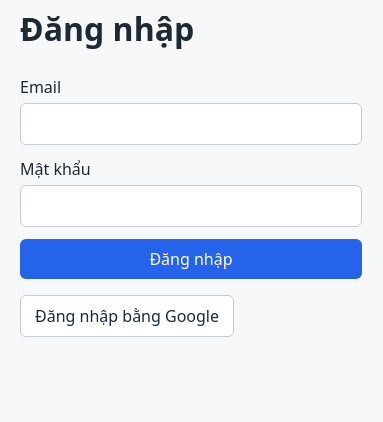
it: LoginPage › AC-AUTH-02 (UI): shows the server message on wrong password
Type "a@b.vn" into the field labelled "Email" at (191, 124), box [20,103,362,145]
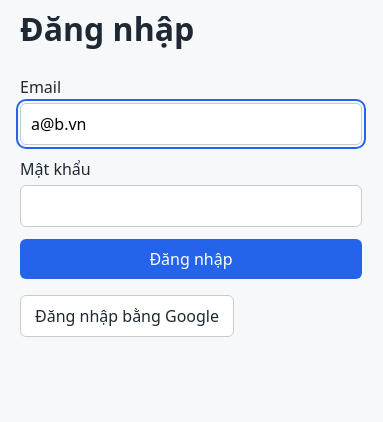
Type "wrong" into the password field labelled "Mật khẩu" at (191, 206), box [20,185,362,227]
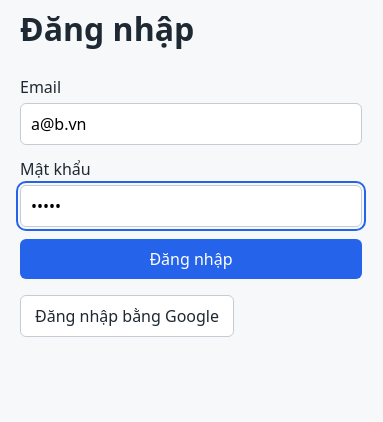
Click the button "Đăng nhập" at (191, 259), box [20,239,362,279]
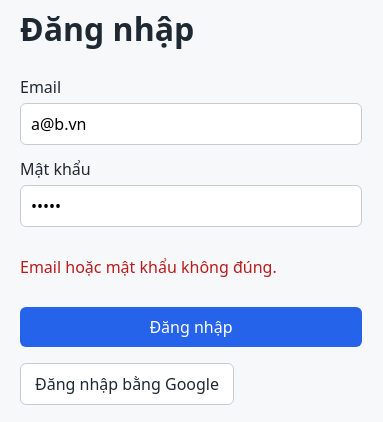
Check: the message reads "Email hoặc mật khẩu không đúng.", box [20,256,277,278]
